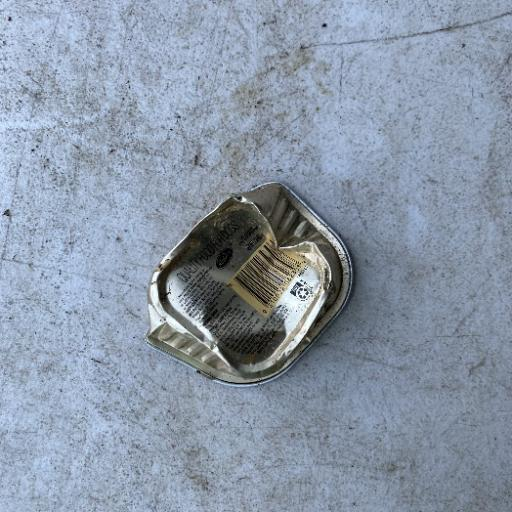Metal: (142, 179, 354, 389)
